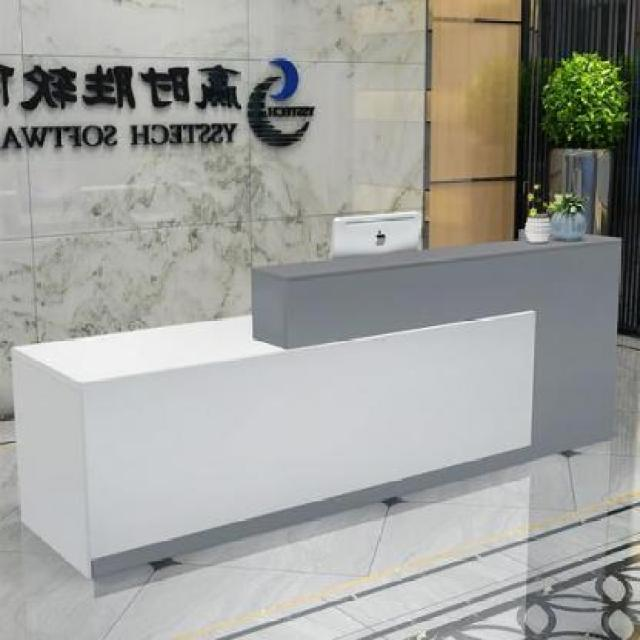frontdesk: (0, 208, 625, 604)
